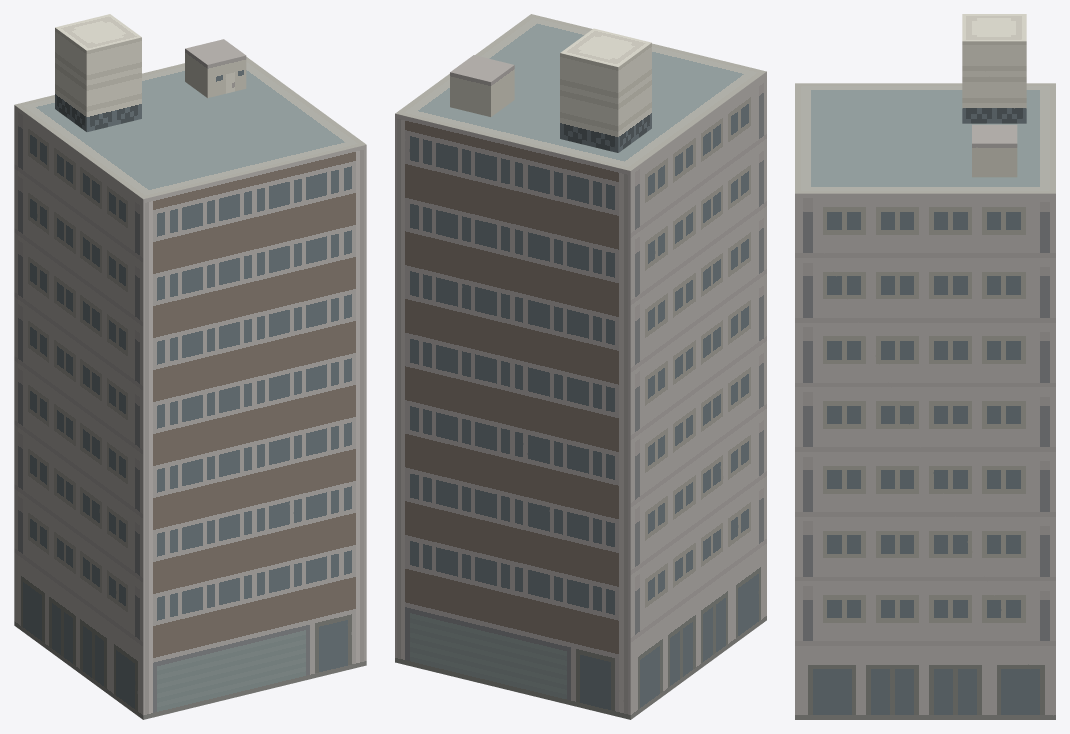
Rendered from 026e_Pilchard_Building.glb.
The picture shows the model from 3 angles, left to right: view 1: azimuth 30°, elevation 25°; view 2: azimuth 150°, elevation 25°; view 3: azimuth 270°, elevation 25°; orthographic projection. The views are drawn at different scales.
Visible parts, largest first — view 1: part_0; view 2: part_0; view 3: part_0.
Part boxes in pixels (<box>): part_0: <box>14,14,366,719</box>; part_0: <box>395,14,766,719</box>; part_0: <box>795,14,1055,719</box>.
Size of the model in its own units: 19.22 by 49.49 by 19.23.
Materials: 1 (1 with a texture image).
